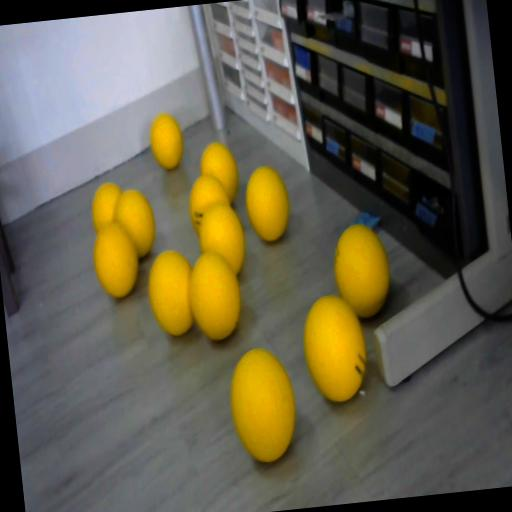FUEL: (224, 343, 300, 464), (298, 290, 372, 405), (330, 220, 394, 320), (144, 248, 198, 338), (194, 200, 248, 278), (90, 220, 142, 300), (242, 164, 293, 244), (198, 140, 242, 204), (148, 111, 185, 170), (88, 181, 126, 233)
